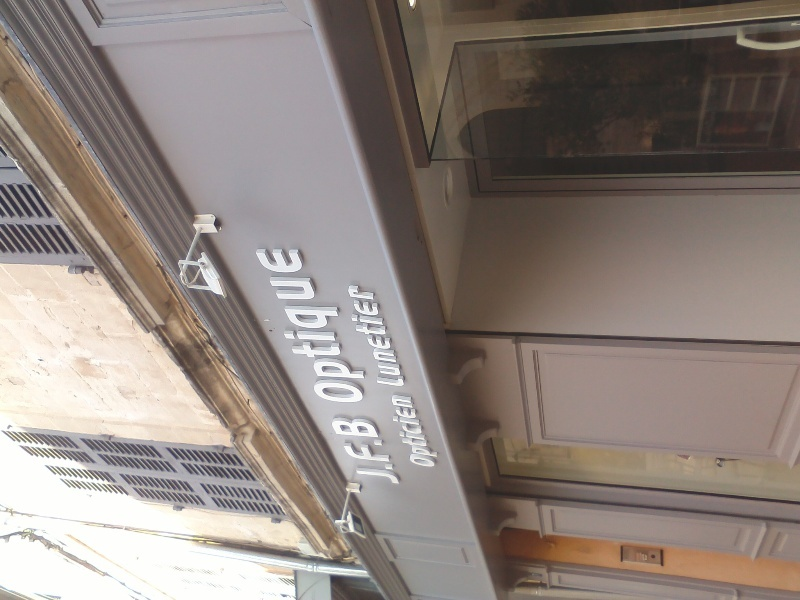text: (257, 245, 272, 404), (273, 245, 288, 404), (289, 245, 304, 404), (305, 245, 320, 404), (321, 245, 336, 404), (337, 245, 352, 404), (353, 245, 368, 404), (245, 245, 256, 404), (337, 281, 352, 388), (353, 281, 368, 388), (369, 281, 384, 388), (385, 281, 400, 388), (369, 245, 377, 404), (385, 393, 400, 472), (401, 393, 416, 472), (417, 393, 432, 472), (337, 417, 352, 486), (353, 417, 368, 486), (369, 417, 384, 486), (385, 417, 400, 486), (433, 393, 445, 472), (401, 281, 408, 388), (326, 417, 336, 486), (401, 417, 402, 486)
